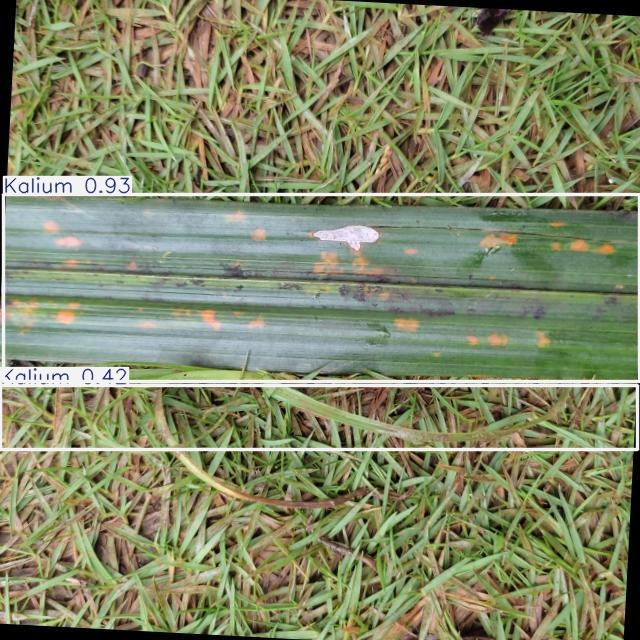Kalium: (3, 195, 639, 382), (1, 385, 637, 449)
